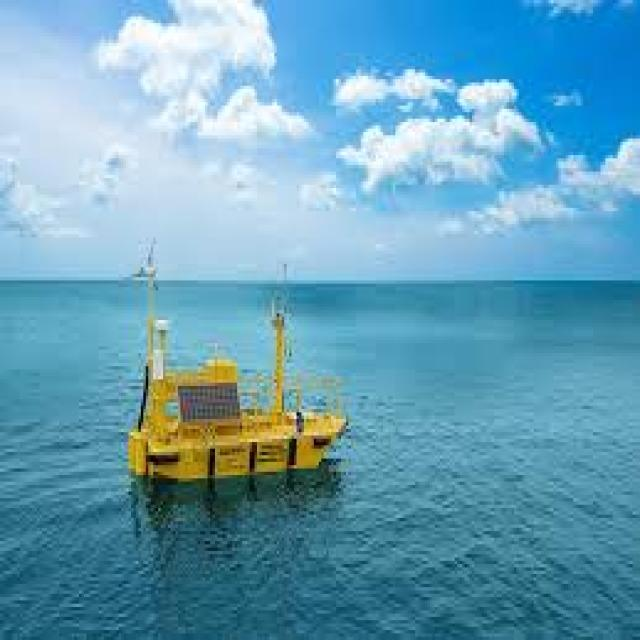2.5 sepcial mark: (120, 206, 348, 509)
